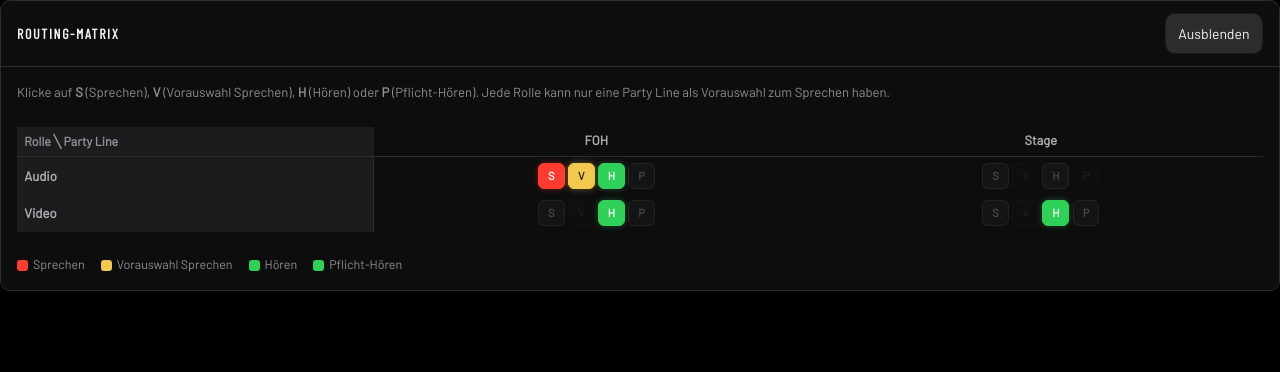
AdminRoutingMatrixCard › toggling a cell shows save/discard buttons and saves changes
Later steps or results of the test are not shown.
Expected: the text "Änderungen speichern" is not shown
Toggle Video talk on FOH
Click the button named "Sprechen Video → FOH: aus" at (551, 213), box [538,200,565,226]
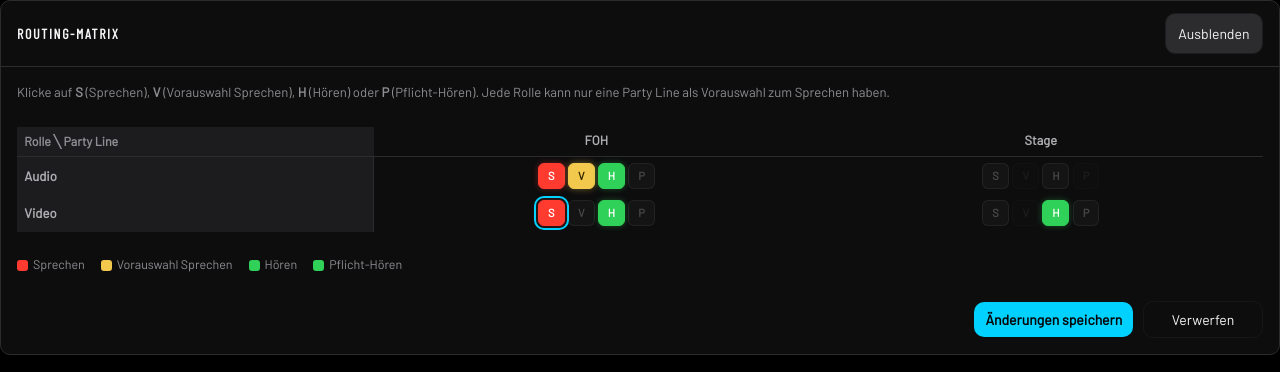
Expected: the button named "Sprechen Video → FOH: an" is shown, [538,200,565,226]
Expected: the button "Änderungen speichern" is shown, [974,302,1133,337]
Expected: the button "Verwerfen" is shown, [1143,301,1263,338]
